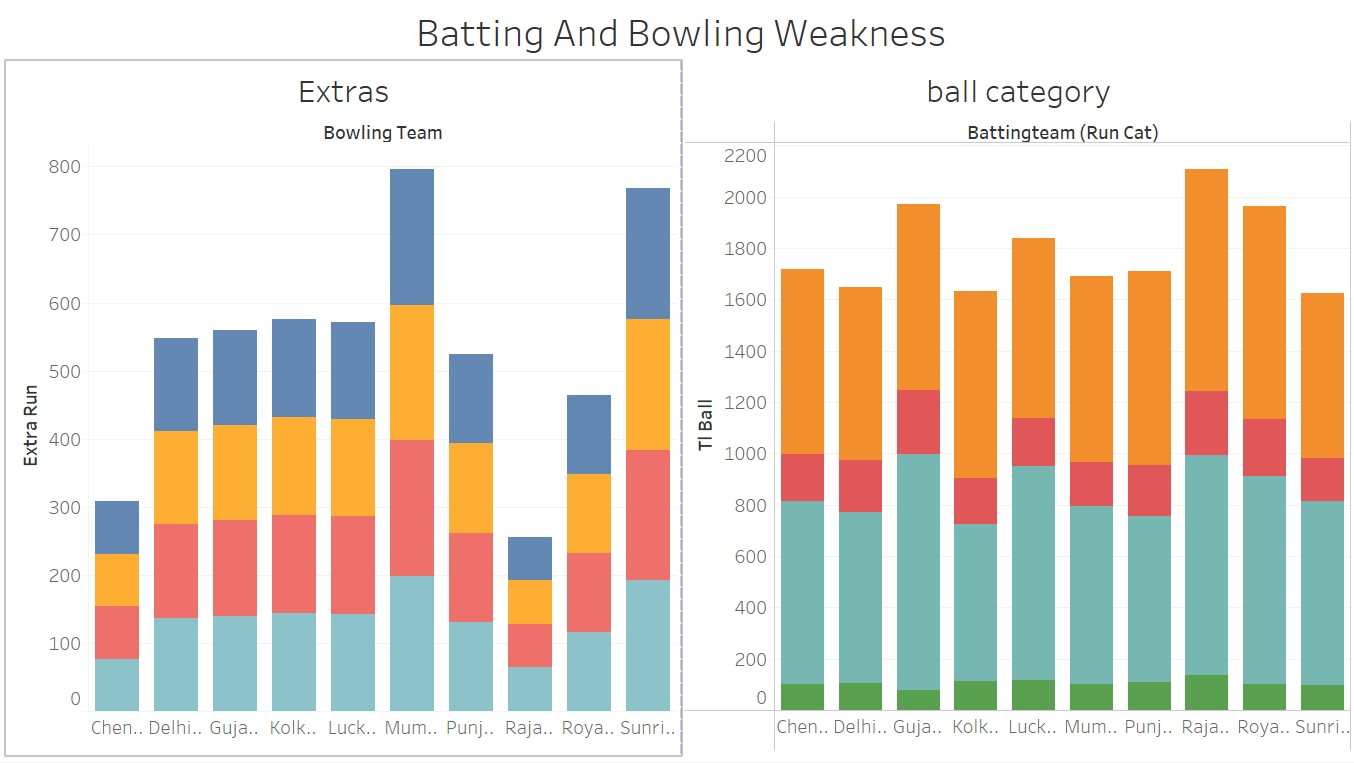

This screenshot's page, from the dashboard's own definition file:
{"tool":"tableau","page":{"name":"Dashboard 3","canvas":[1366,768],"ordinal":2},"visuals":[{"type":"title","box":[8,8,1350,58]},{"type":"worksheet","title":"Extras","mark":"Automatic","rows":["extra_run"],"cols":["bowling_team"],"box":[8,66,675,694]},{"type":"worksheet","title":"ball category","mark":"Bar","rows":["tl_ball"],"cols":["battingteam (run_cat)"],"box":[683,66,675,694]}]}

Visuals, with their boxes in screenshot pixels (x1, y1, x2, y2), scaled from the page's 1366x768 canvas onto the 1354x763 screenshot:
title: rect(8, 8, 1346, 66)
"Extras" worksheet: rect(8, 66, 677, 755)
"ball category" worksheet (Bar marks): rect(677, 66, 1346, 755)
